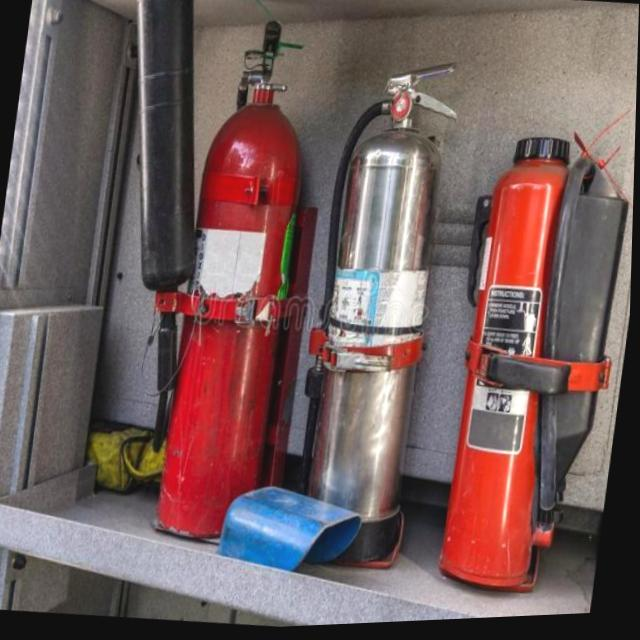FireExtinguisher: (61, 0, 337, 561), (278, 47, 473, 592), (421, 120, 637, 605)
